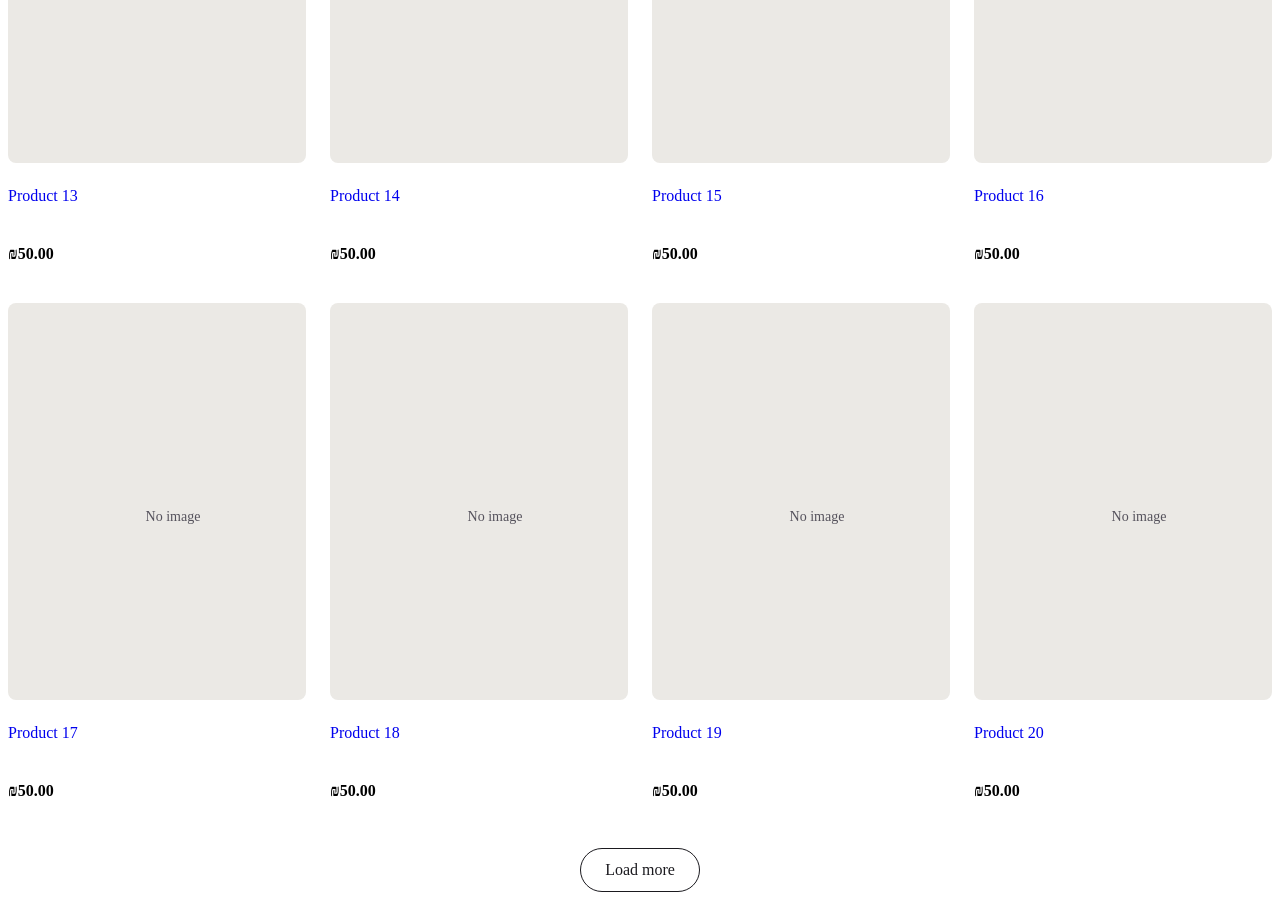
Test: CategoryProductsPage › loads the next page with "Load more", focuses the first new card and hides the button on the last page
The width and height of the screenshot is (1280, 900).
(page scrolled)
Click the button "Load more" at (640, 870), box x1=580 y1=848 x2=700 y2=892
(page scrolled)
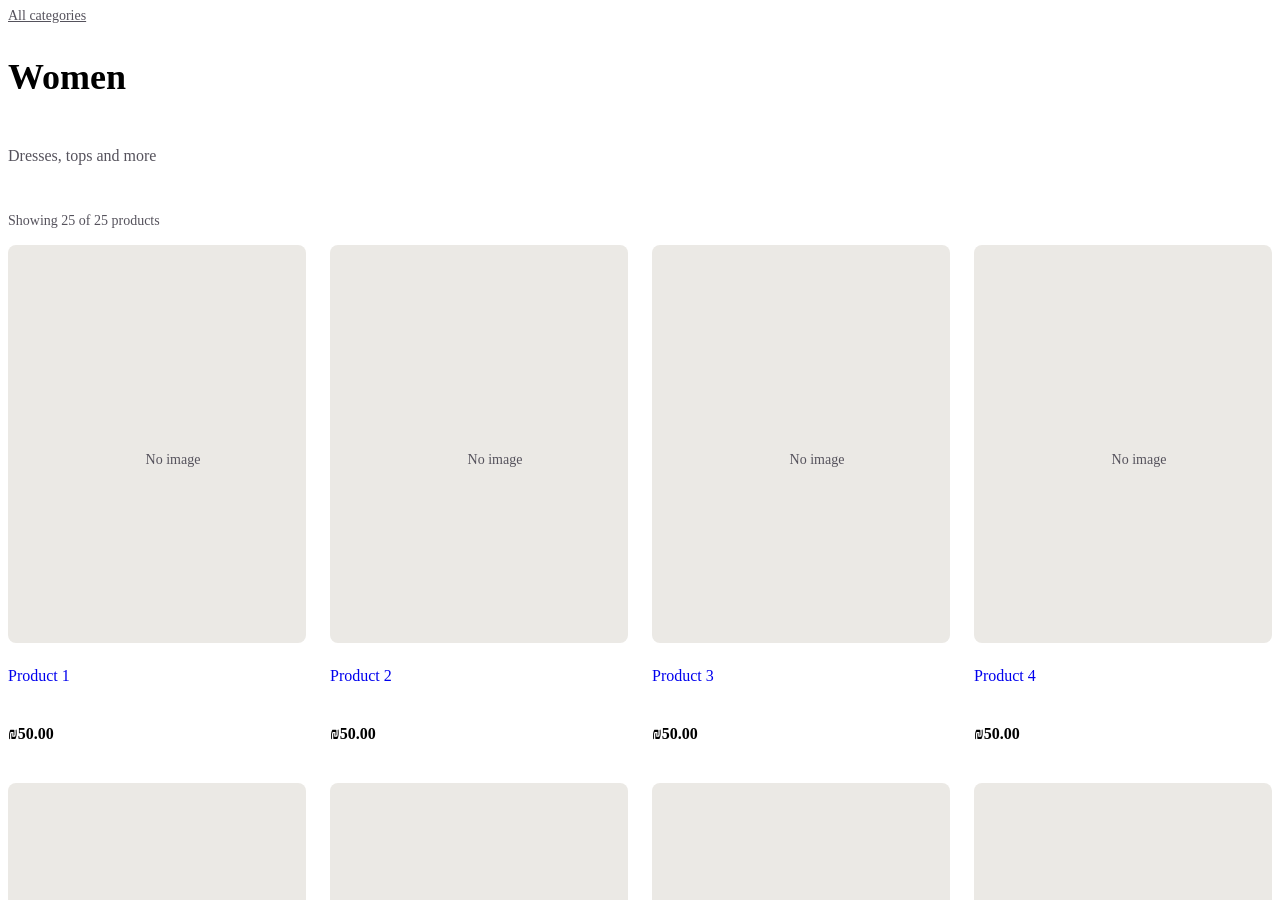
Result: the text "Showing 25 of 25 products" is shown at x1=8 y1=213 x2=160 y2=228
Result: the button "Load more" is gone
